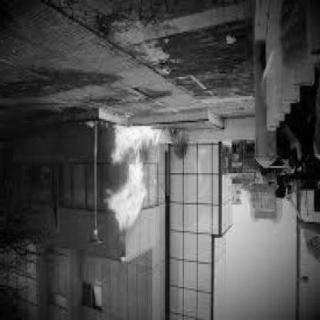Fire: (101, 123, 168, 245)
other: (104, 5, 162, 71), (109, 82, 157, 126), (186, 147, 218, 207)
